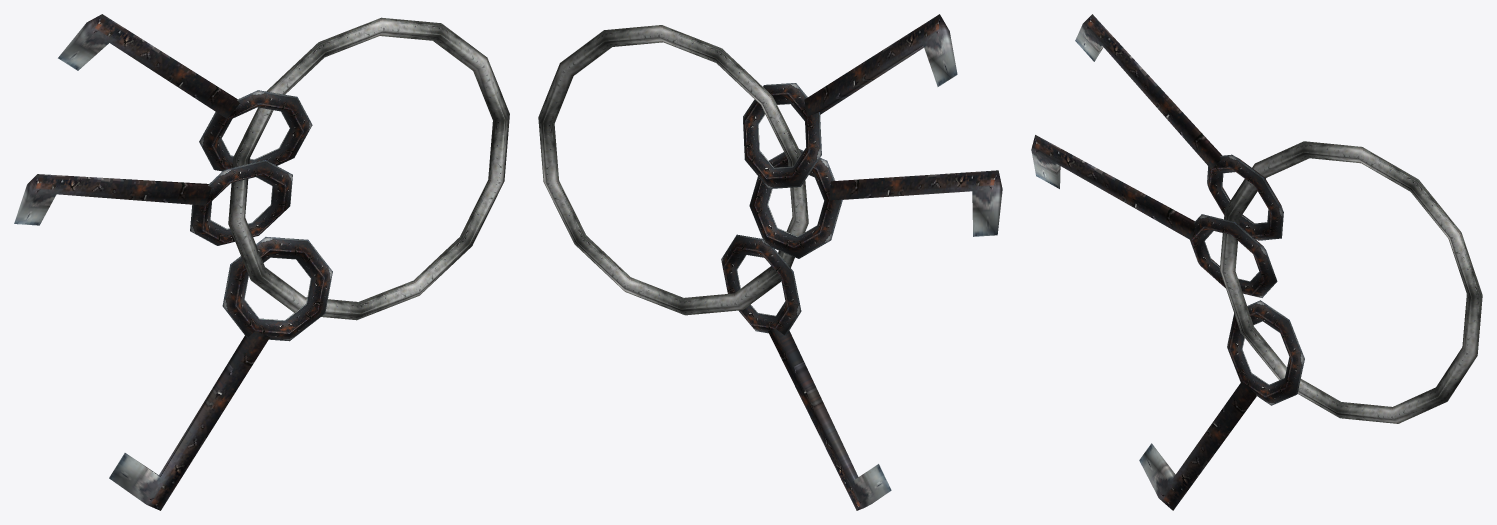
Rendered from ItKe_Lockpick.fbx.
The picture shows the model from 3 angles, left to right: view 1: azimuth 30°, elevation 25°; view 2: azimuth 150°, elevation 25°; view 3: azimuth 330°, elevation 25°; orthographic projection. The views are drawn at different scales.
Visible parts, largest first — view 1: Torus01; view 2: Torus01; view 3: Torus01.
Boxes of the visible parts, left/top/right/bottom form: Torus01: left=14, top=14, right=509, bottom=510; Torus01: left=538, top=14, right=1002, bottom=510; Torus01: left=1031, top=14, right=1482, bottom=510.
Size of the model in its own units: 47.88 by 49.31 by 5.
